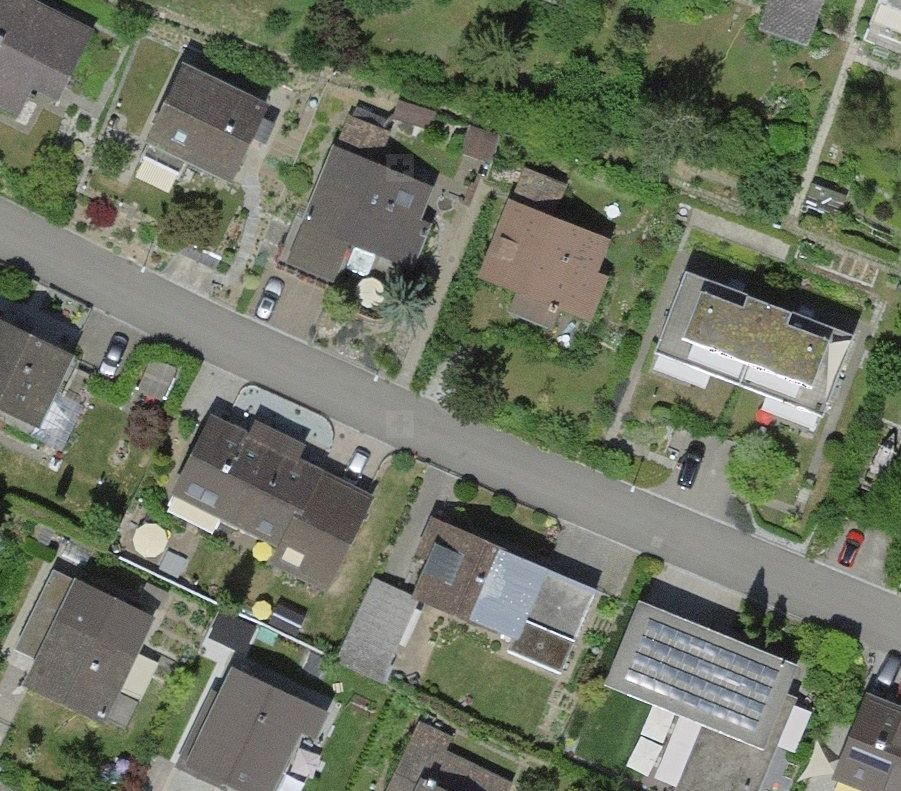solar: (623, 619, 779, 732)
